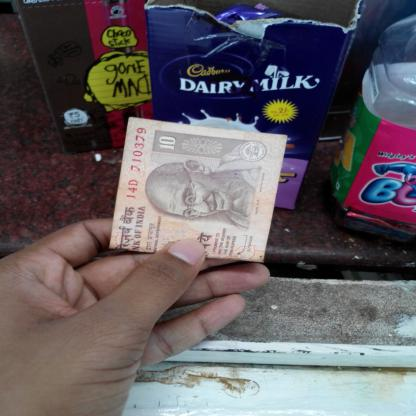Old10Front: (109, 116, 289, 263)
